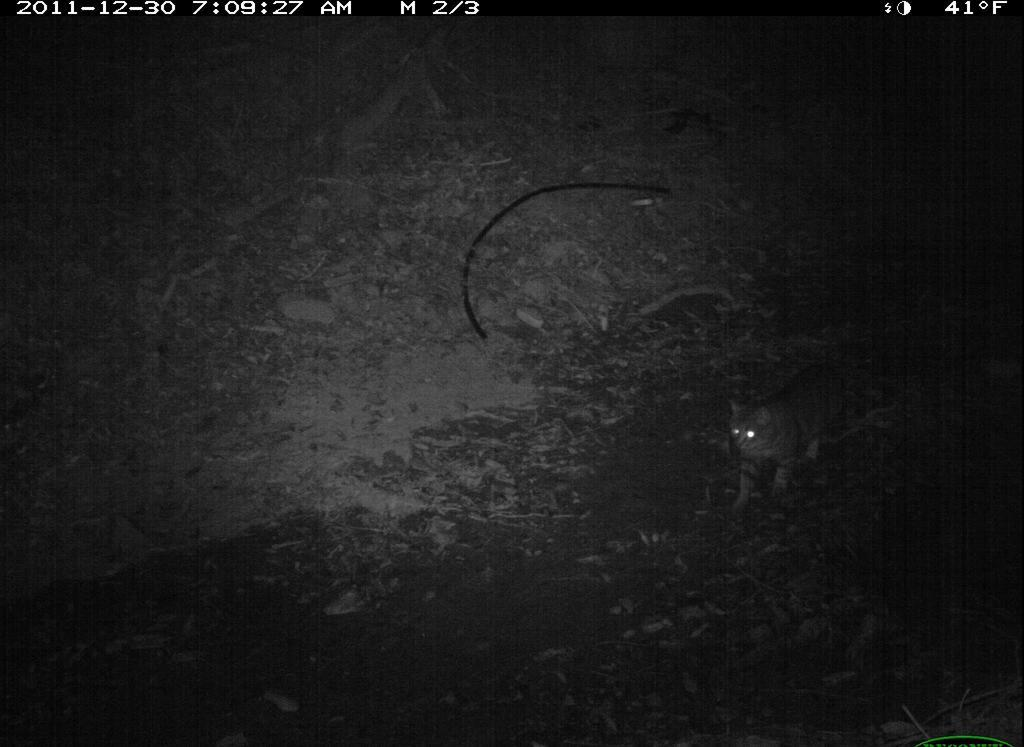cat: (722, 356, 891, 510)
